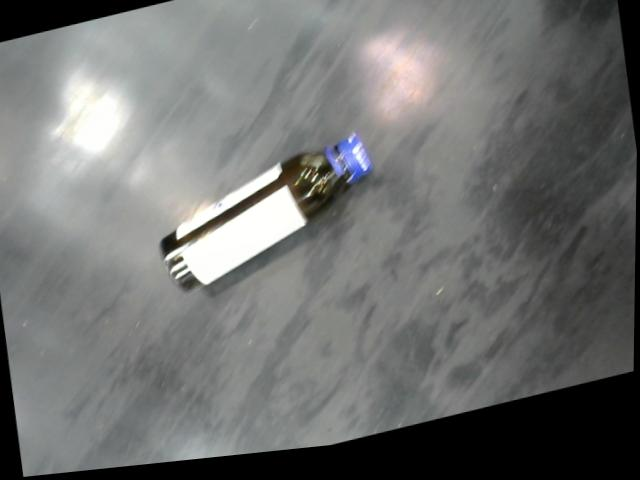glass: (159, 133, 378, 296)
